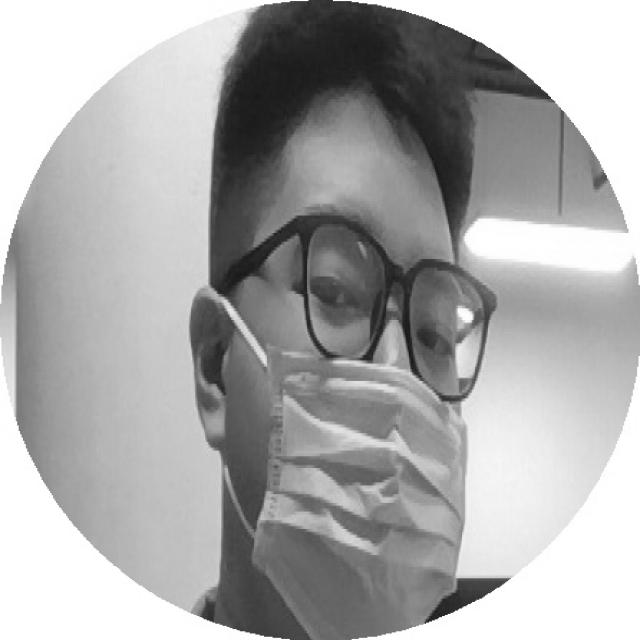fake: (231, 353, 475, 640)
real: (269, 219, 496, 380)
